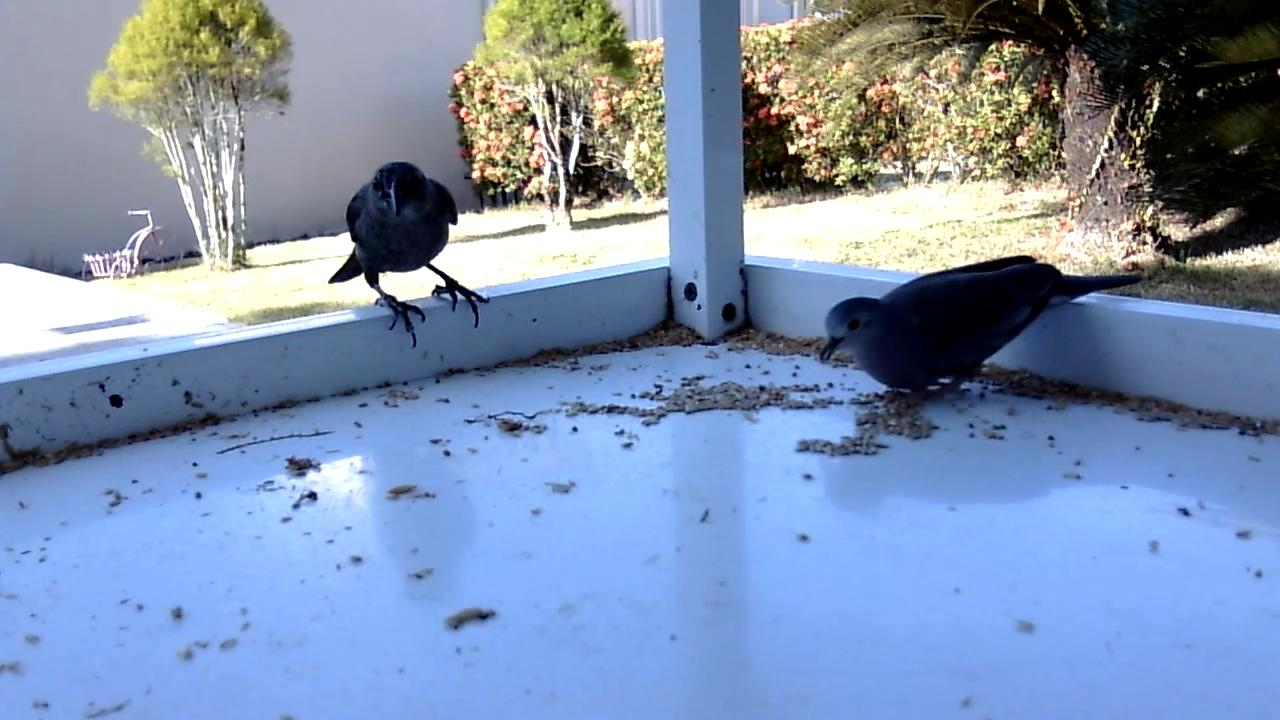chupim: (327, 160, 491, 351)
rolinha: (817, 251, 1147, 408)
